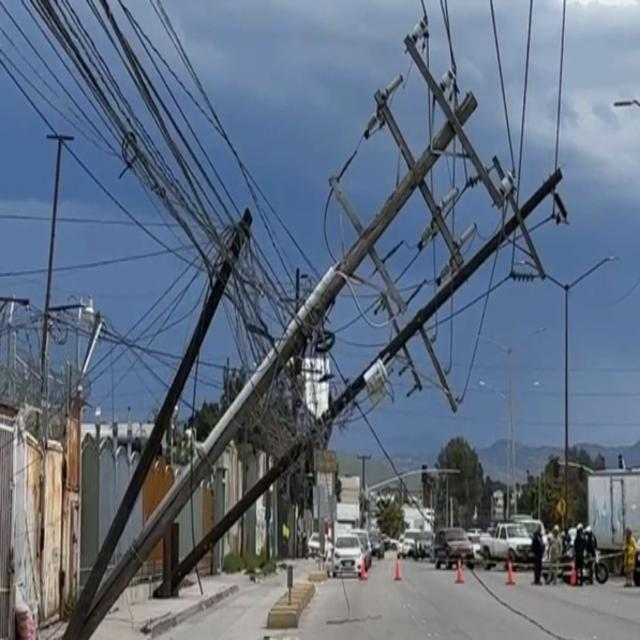Inclined Pole: (66, 12, 535, 640)
